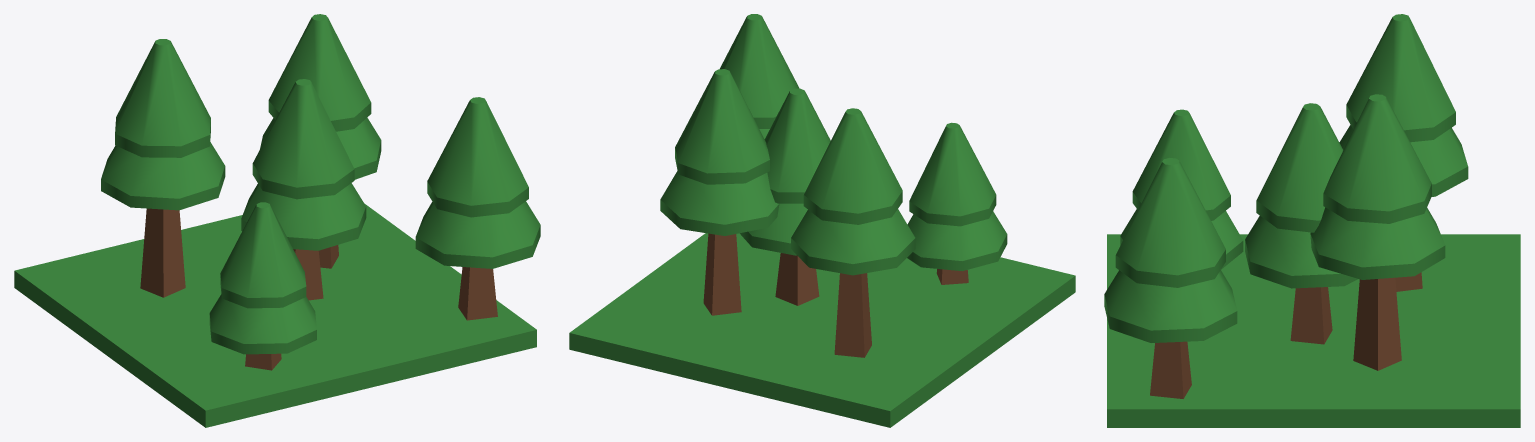
The model's file is grass-trees-tall.glb.
3 renders of one model, left to right at view 1: azimuth 30°, elevation 25°; view 2: azimuth 150°, elevation 25°; view 3: azimuth 270°, elevation 25°, orthographic. The views are drawn at different scales.
Parts seen in each view (by area): view 1: grass-trees-tall; view 2: grass-trees-tall; view 3: grass-trees-tall.
Part boxes in pixels (x1,y1,x2,y2): grass-trees-tall: [14, 14, 540, 427]; grass-trees-tall: [569, 14, 1075, 427]; grass-trees-tall: [1104, 14, 1520, 427].
Bounding box in the file's own units: 10.72 × 7.6 × 10.06.
